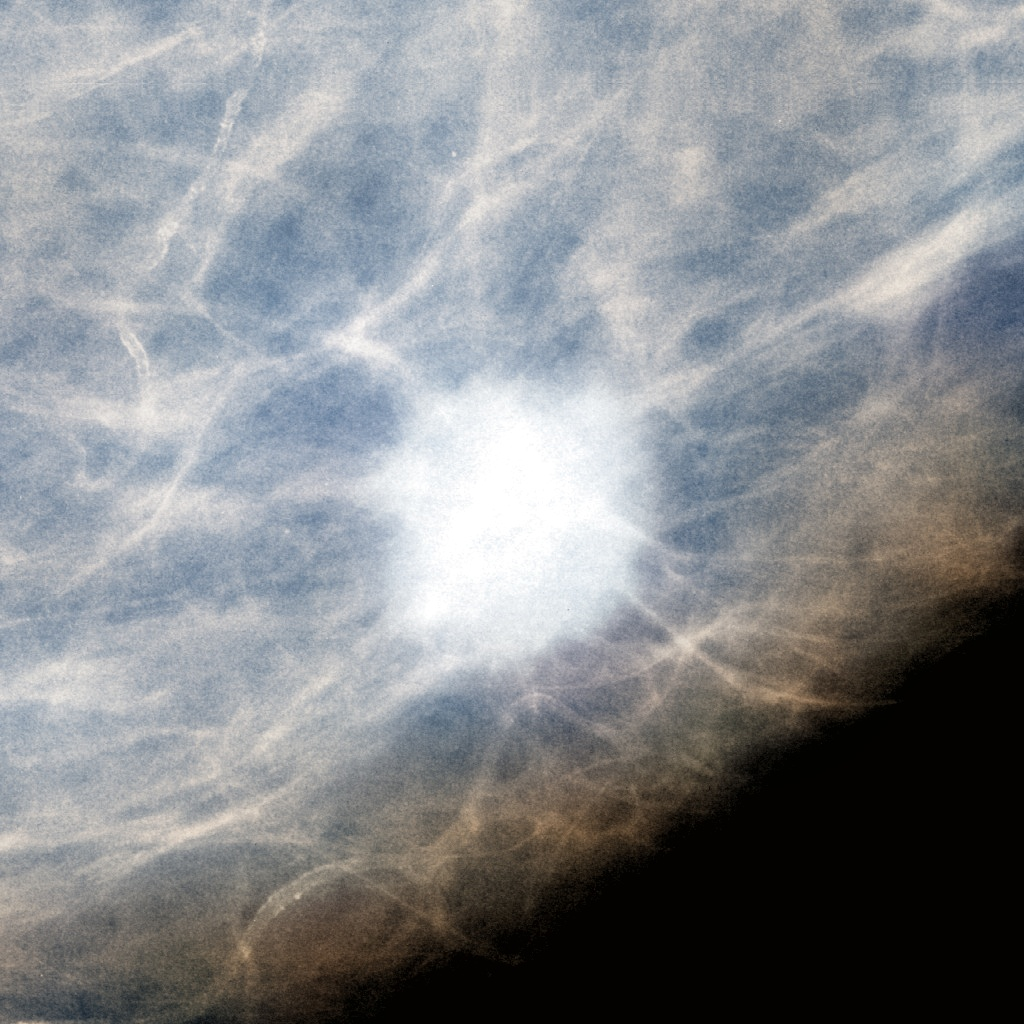tumor: (357, 359, 667, 665)
